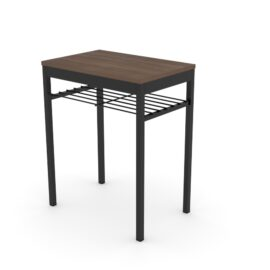m01: (40, 49, 196, 243)
